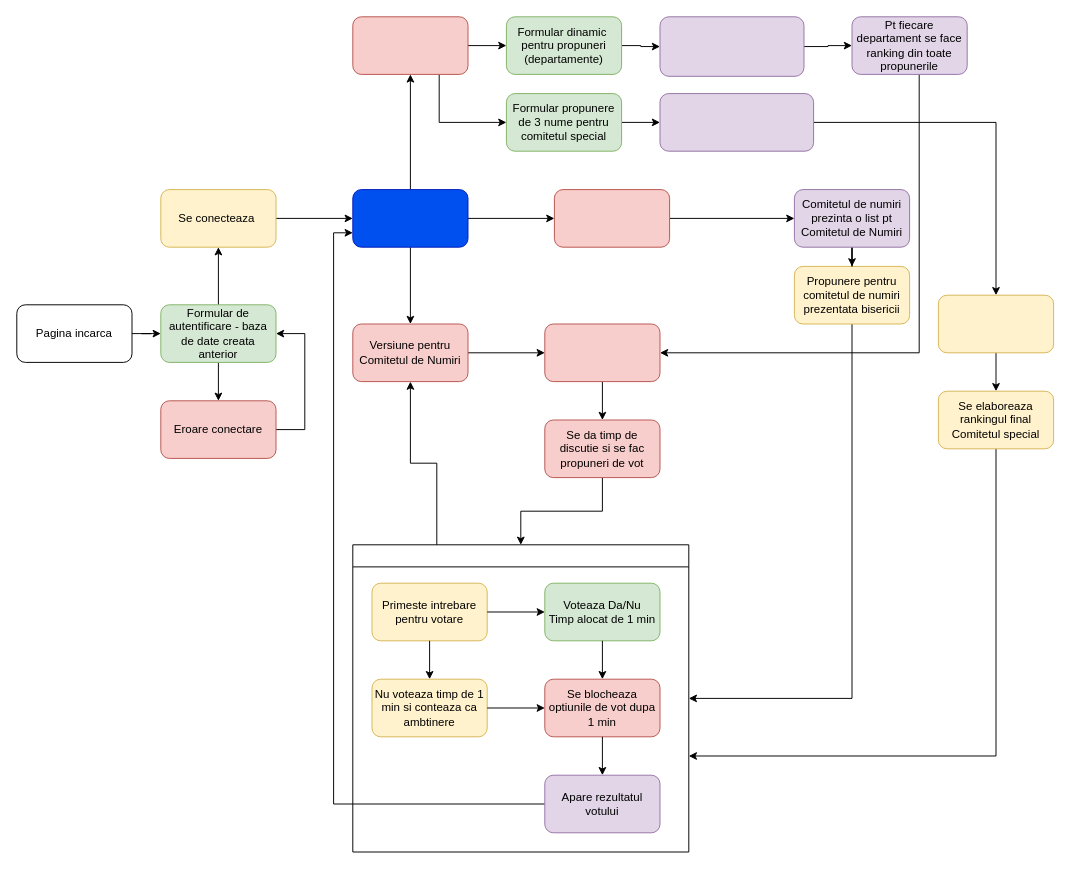
This 1070x869 diagram has some shape labels left out. Each missing label, with the centre of its shape:
"Apar toate departamentele bisericii si se pot propune persoane din baza de date" belongs at (x=731, y=46).
"Apare lista de membri ai biserici de unde se pot alege din persoanele prezente" belongs at (x=736, y=122).
"Apare mesaj de confirmare ca este conectat" belongs at (x=410, y=218).
"Proces de Votare" belongs at (x=520, y=698).
"Se face rankingul propunerilor si se da timp contestatiilor" belongs at (x=995, y=323).
"Se voteaza si propune cate o persoana pentru fiecare departament" belongs at (x=602, y=352).
"Versiune pentru intreaga biserica" belongs at (x=410, y=45).
"Versiune prentru Comitetul Special" belongs at (x=611, y=218).
